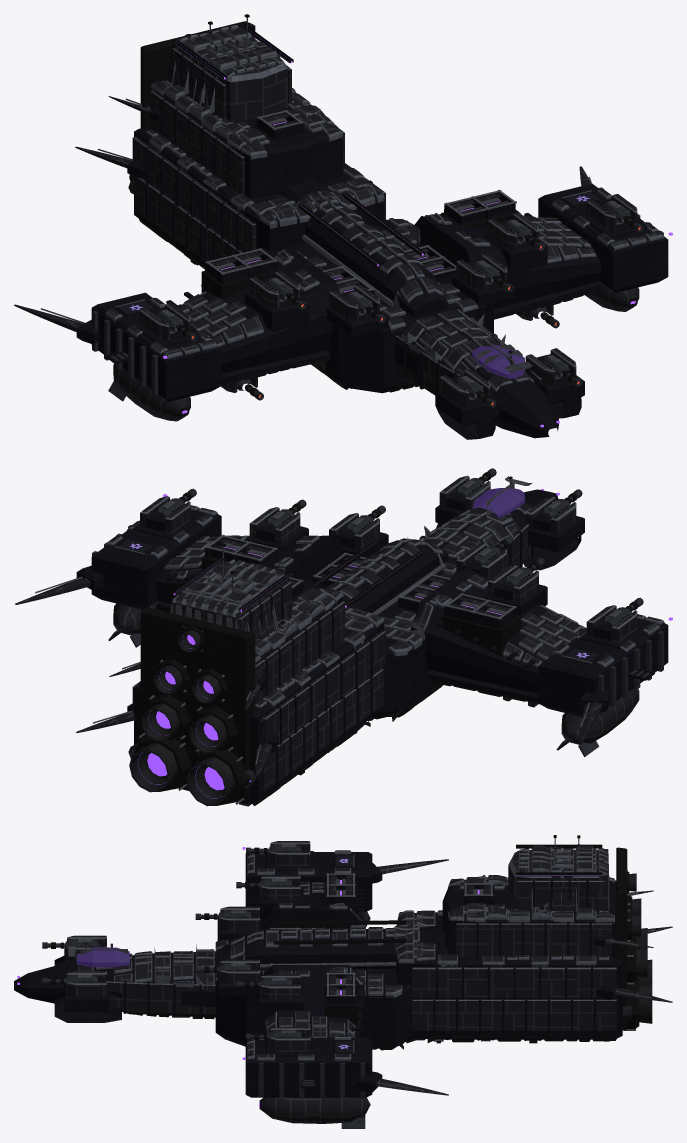
File: eris-schiff6.glb
3 views of the same model, one above another, from view 1: azimuth 30°, elevation 25°; view 2: azimuth 150°, elevation 25°; view 3: azimuth 270°, elevation 25° (orthographic). The views are drawn at different scales.
Parts seen in each view (by area): view 1: Hull_LOD0; view 2: Hull_LOD0, EngineLight; view 3: Hull_LOD0.
Boxes of the visible parts, x1,y1,x2,y2 form: Hull_LOD0: (14,14,672,439); Hull_LOD0: (15,475,672,806); EngineLight: (137,635,250,798); Hull_LOD0: (14,835,672,1128).
Size of the model in its own units: 71.46 by 28.11 by 84.25.
Materials: 6 (4 with a texture image).
